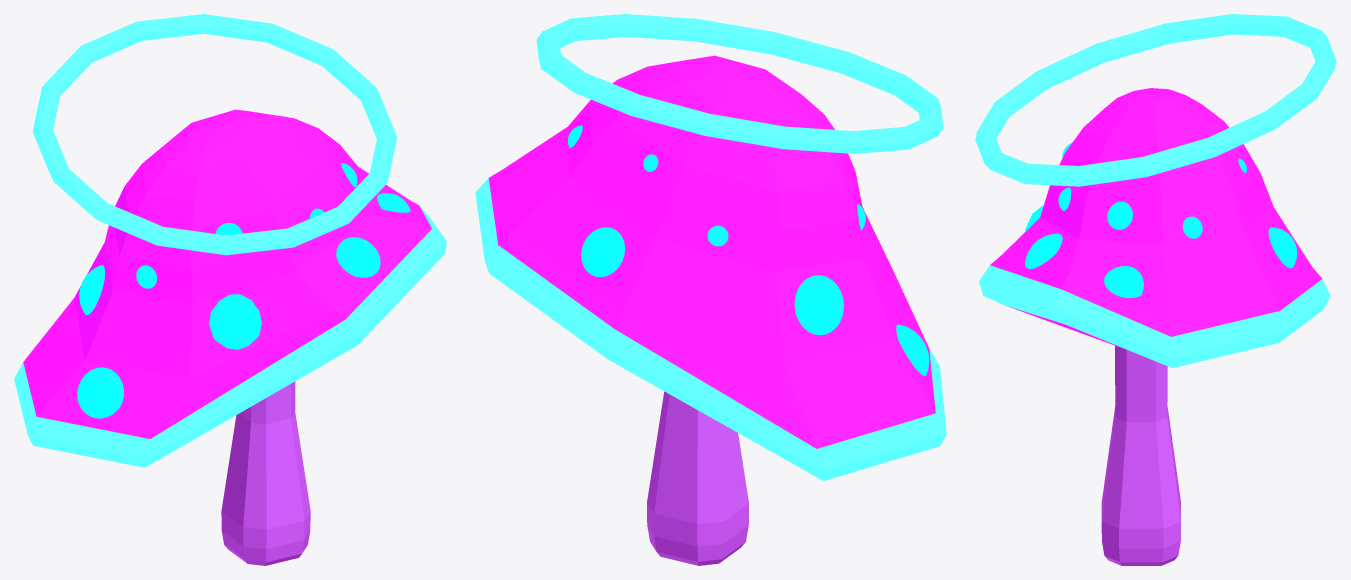
The model's file is Mushrooms_5.fbx.
3 views of the same model, side by side, from view 1: azimuth 30°, elevation 25°; view 2: azimuth 150°, elevation 25°; view 3: azimuth 270°, elevation 25° (orthographic). The views are drawn at different scales.
Visible parts, largest first — view 1: Sphere.005; view 2: Sphere.005; view 3: Sphere.005.
Boxes of the visible parts, <box> form: Sphere.005: <box>14,14,446,565</box>; Sphere.005: <box>475,14,946,565</box>; Sphere.005: <box>975,14,1336,565</box>.
Bounding box in the file's own units: 31.95 × 35.23 × 24.06.
